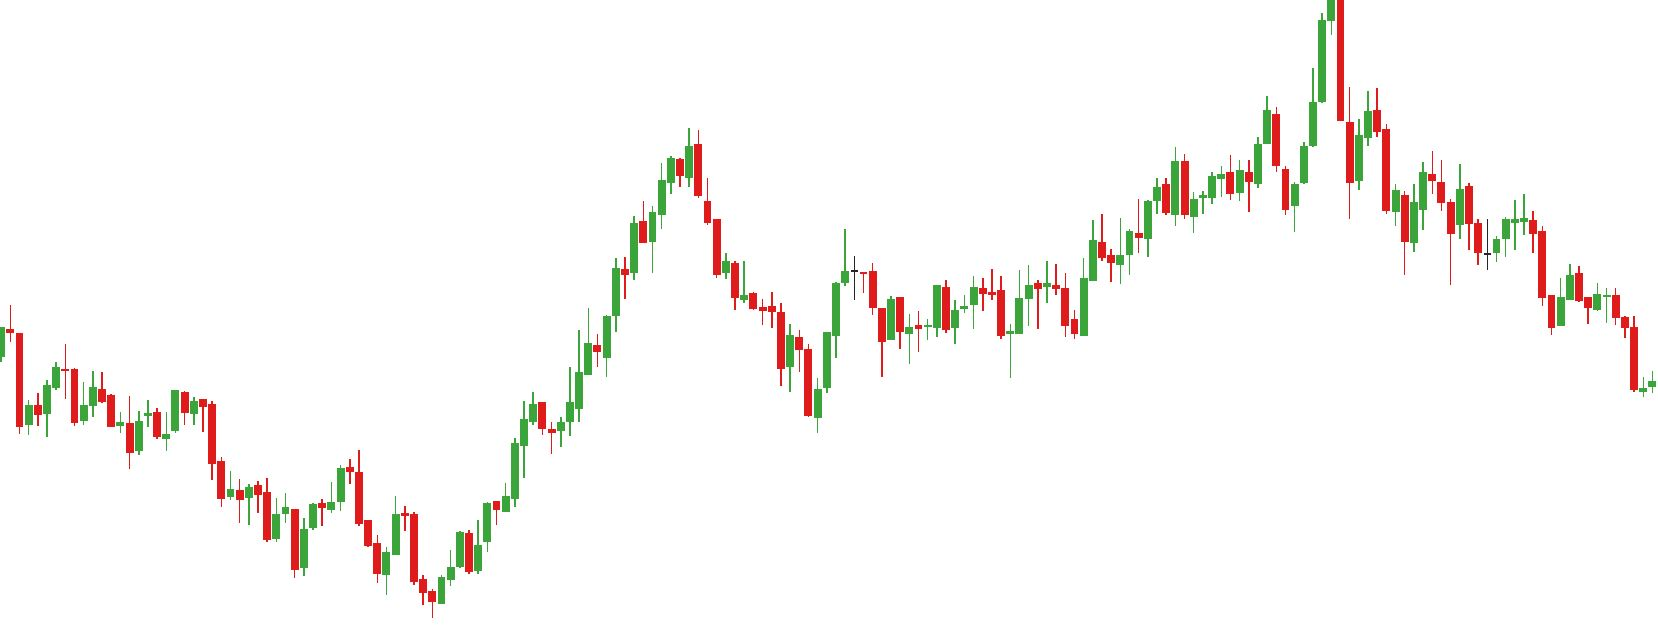buy: (372, 516, 449, 617), (948, 289, 1025, 378)
sell: (125, 384, 190, 452)
